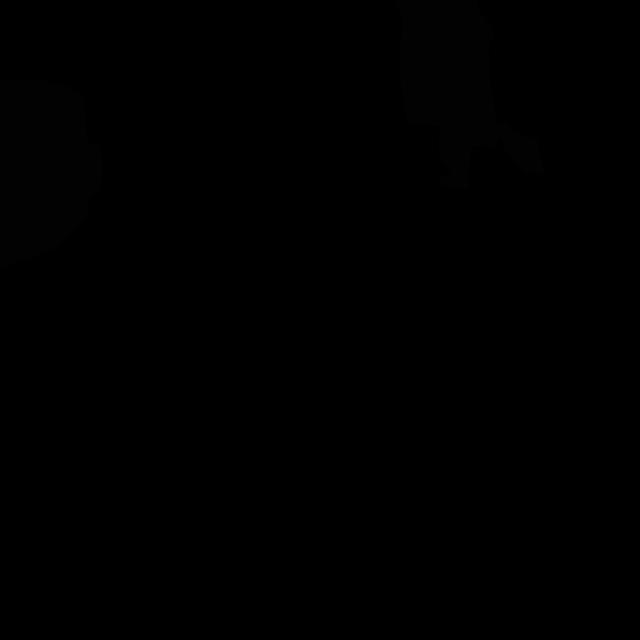cardboard: (394, 0, 545, 189), (0, 79, 102, 269)
